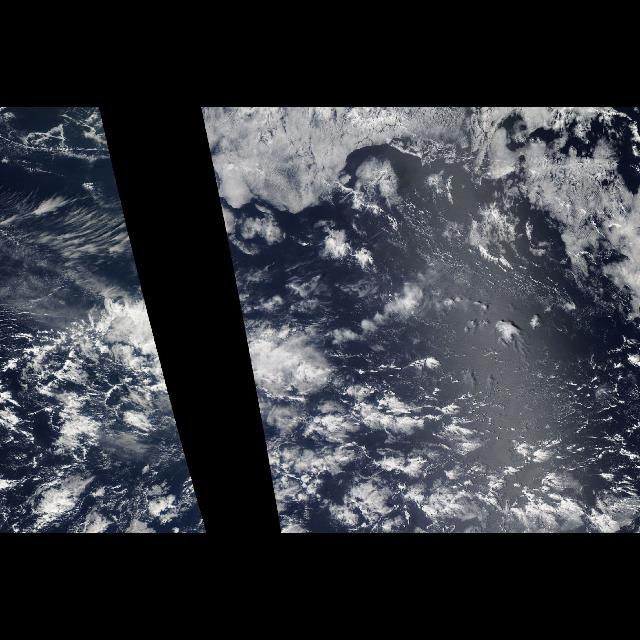Fish: (228, 256, 352, 409), (64, 256, 174, 409)
Flower: (276, 406, 594, 532)
